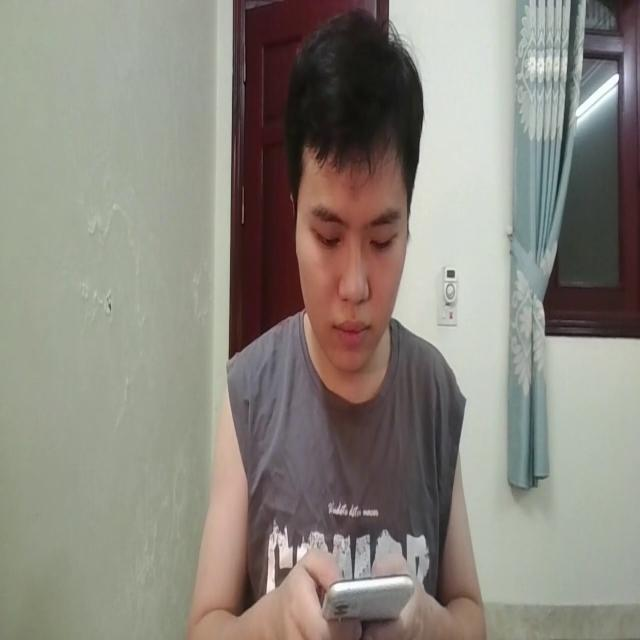phone: (318, 558, 414, 632)
student: (190, 10, 487, 640)
